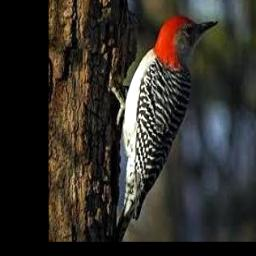Woodpecker: (113, 14, 218, 242)
